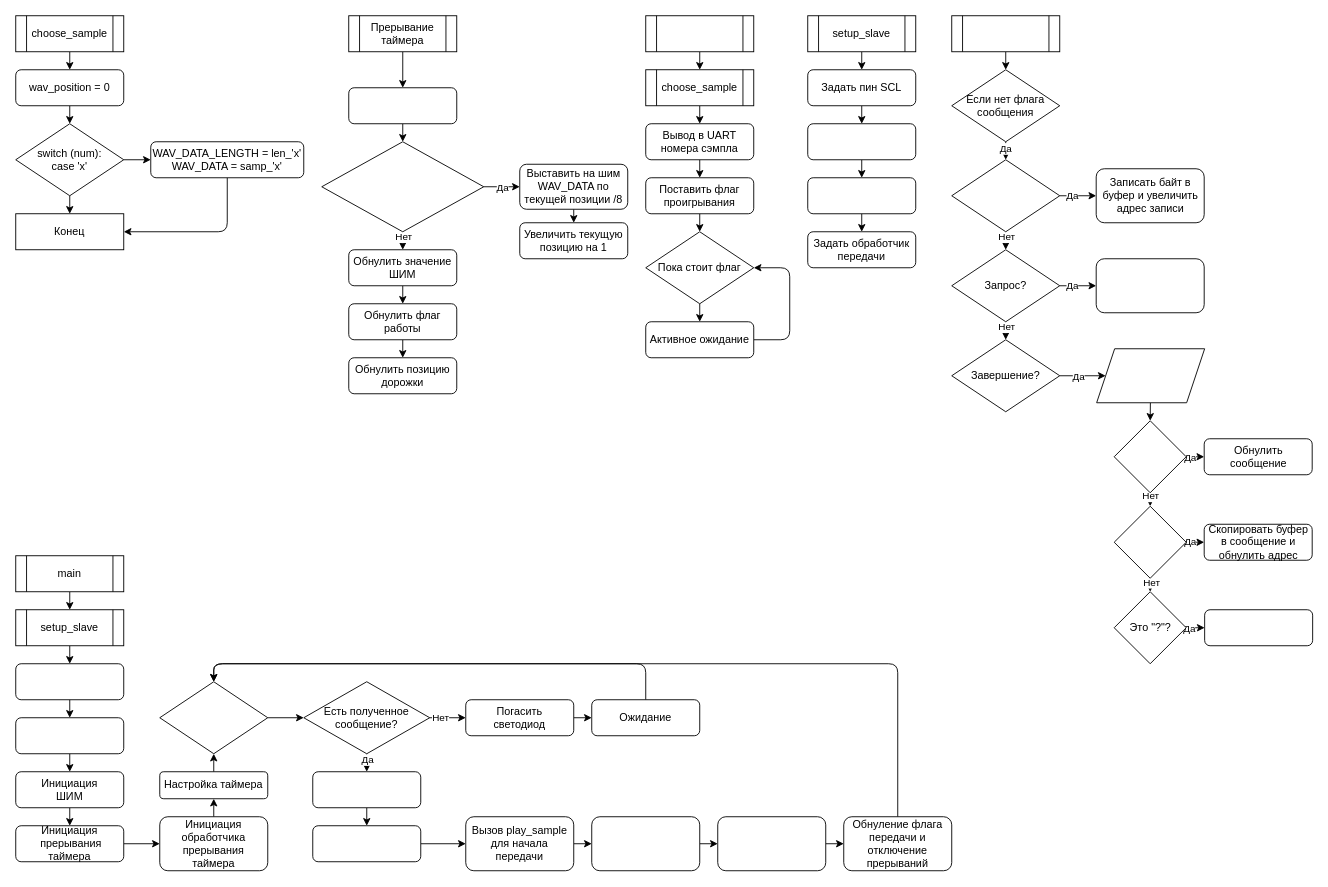
Some shapes in this 1328 by 887 pixel diagram are drawn without their labels. Here are the shapes that lost their labels. From the top down, the box of each, then its label:
(645, 15, 754, 52): play sample
(951, 15, 1060, 52): Обработчик i2c
(348, 87, 457, 124): Установить флаг прерывания на 0
(807, 123, 916, 160): Задать пин SDA
(321, 141, 484, 232): Текущая позиция меньше длины дорожки * 8?
(807, 177, 916, 214): Задать скорость передачи
(951, 159, 1060, 232): Прием?
(1095, 258, 1204, 313): Передать байт из буфера и увеличить адрес записи
(1096, 348, 1205, 403): switch по первому биту
(1113, 420, 1186, 493): Это "!"?
(1113, 505, 1186, 578): Это ":"?
(1204, 609, 1313, 646): Установить флаг полученного сообщения
(15, 663, 124, 700): Инициация светодиода
(15, 717, 124, 754): Инициация таймера
(159, 681, 268, 754): Бесконечный цикл
(312, 771, 421, 808): Включить светодиод
(312, 825, 421, 862): Включить прерывания
(591, 816, 700, 871): Циклический вызов play_sample по сообщению
(717, 816, 826, 871): Вызов play_sample для конца передачи
